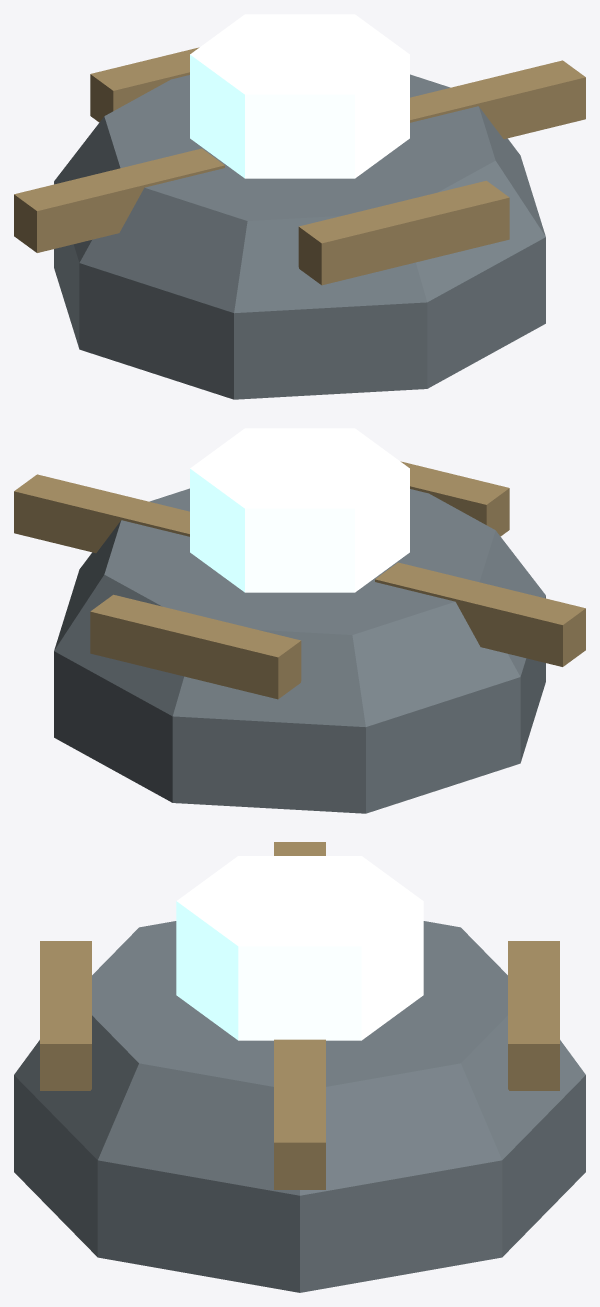
File: building-extractor.glb
3 views of the same model, one above another, from view 1: azimuth 30°, elevation 25°; view 2: azimuth 150°, elevation 25°; view 3: azimuth 270°, elevation 25° (orthographic). The views are drawn at different scales.
Visible parts, largest first — view 1: Body; view 2: Body; view 3: Body.
Part boxes in pixels (x1=…): Body: x1=14, y1=14, x2=585, y2=399; Body: x1=14, y1=428, x2=585, y2=813; Body: x1=14, y1=842, x2=585, y2=1292.
Size of the model in its own units: 2.19 by 0.92 by 1.76.
